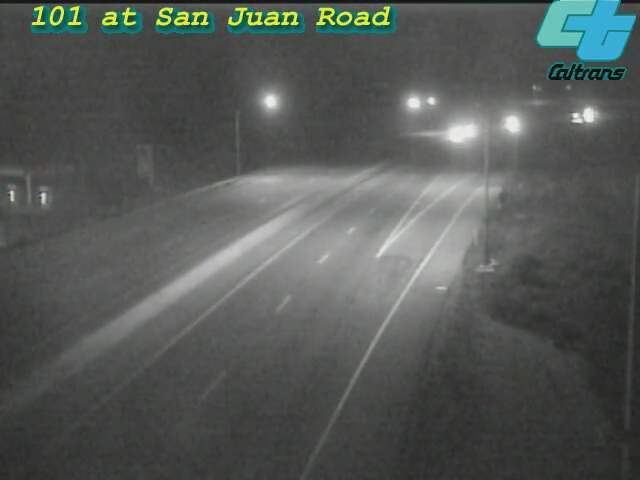vehicle: (553, 94, 603, 144), (430, 110, 480, 160), (488, 99, 538, 149), (444, 106, 494, 156), (561, 90, 611, 140)
